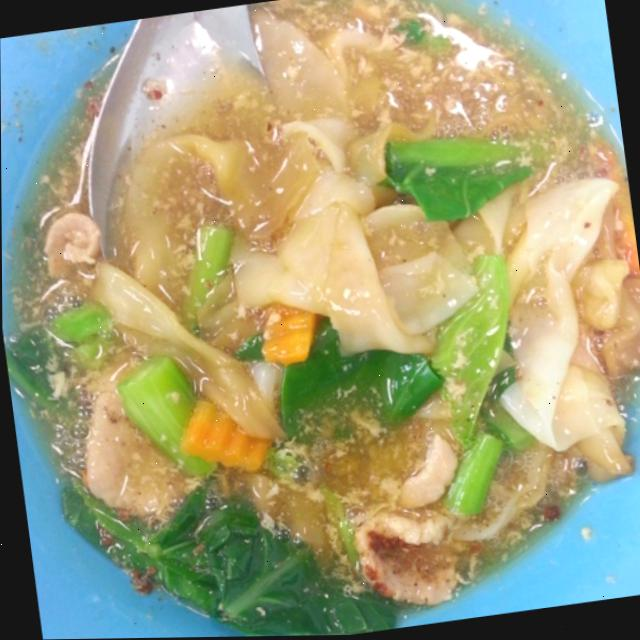面条主食: (34, 0, 640, 630)
